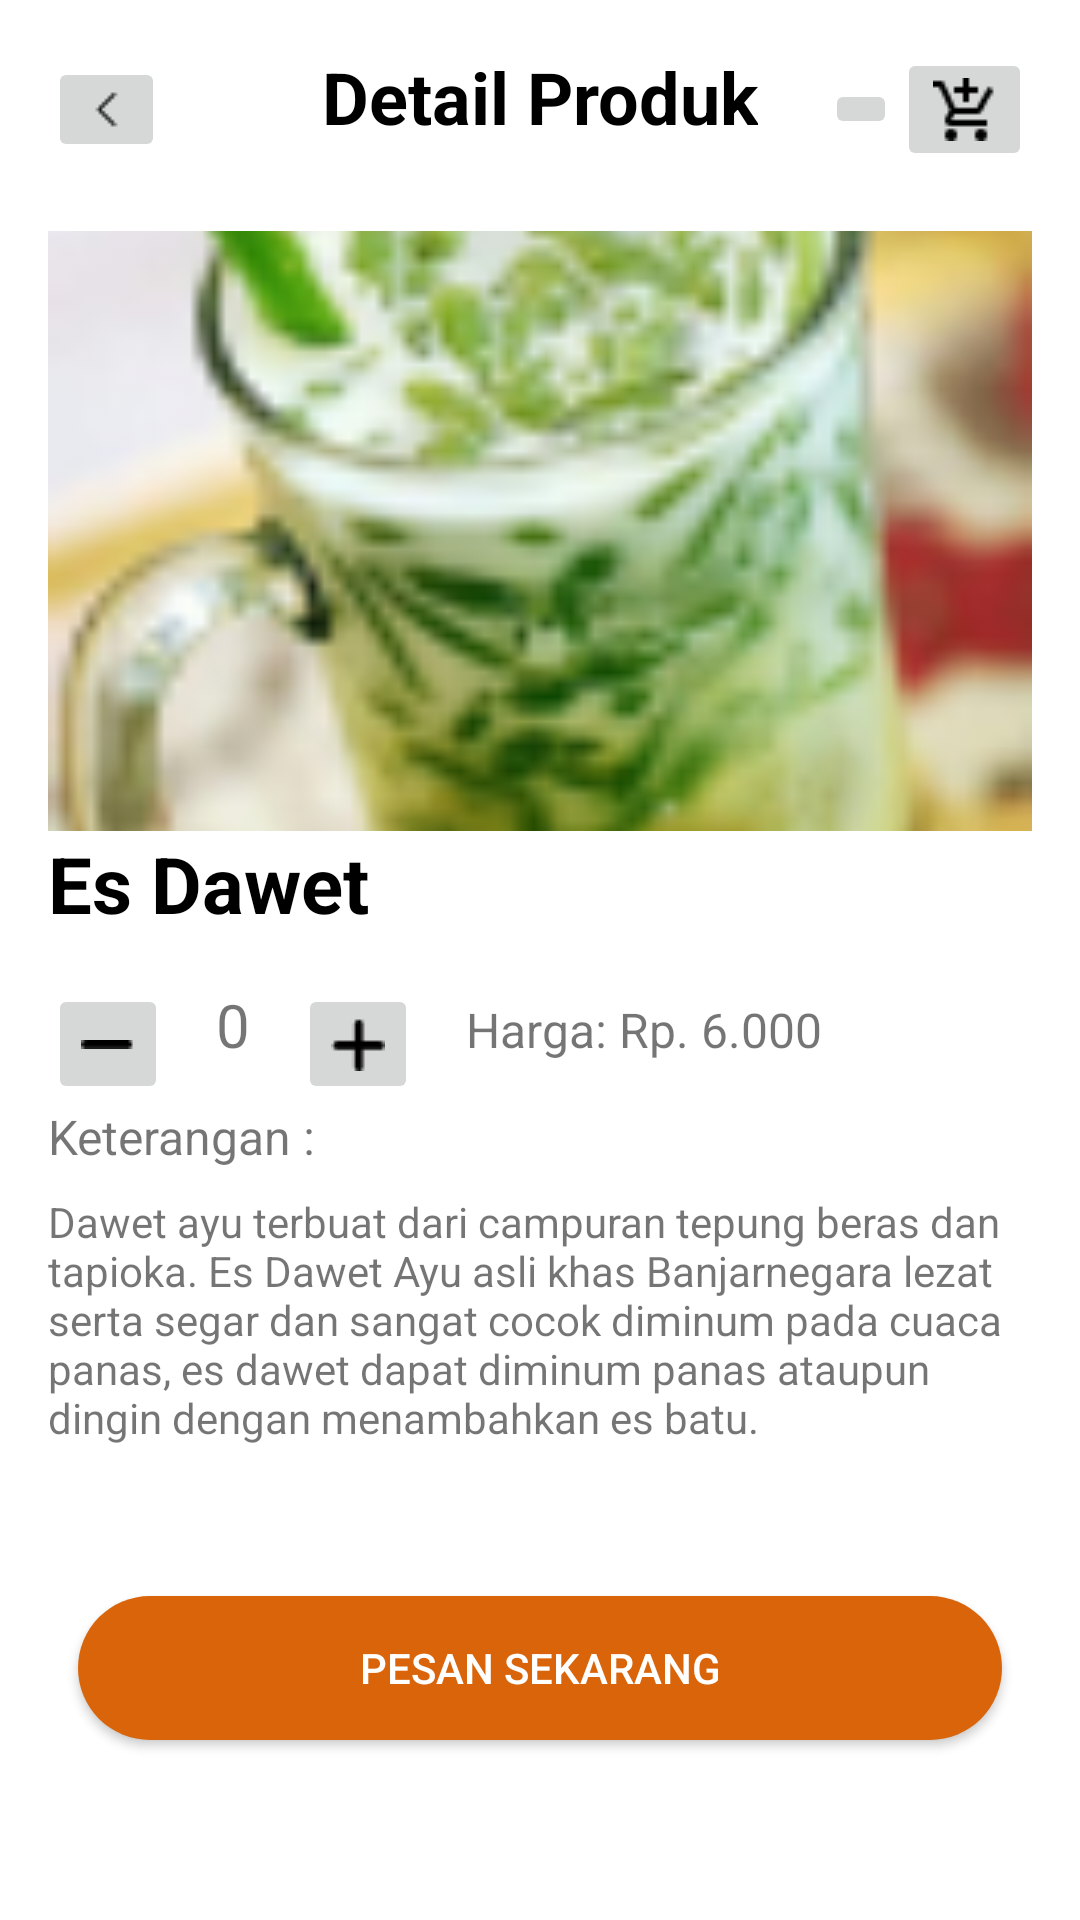

Where icons sit on this 1080×1920 app screen, as [left=x1, top=y1, right=x2, bottom=y2]:
back: [left=60, top=75, right=153, bottom=144]
cart: [left=909, top=66, right=1020, bottom=153]
tambah: [left=310, top=1002, right=406, bottom=1086]
